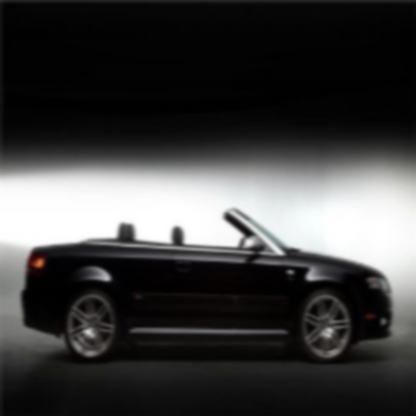Vehicle: (17, 210, 393, 370)
